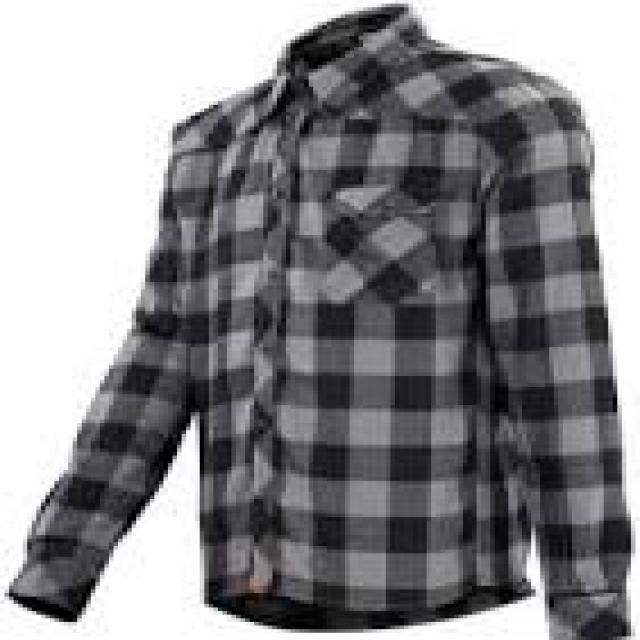plaid: (16, 25, 640, 638)
